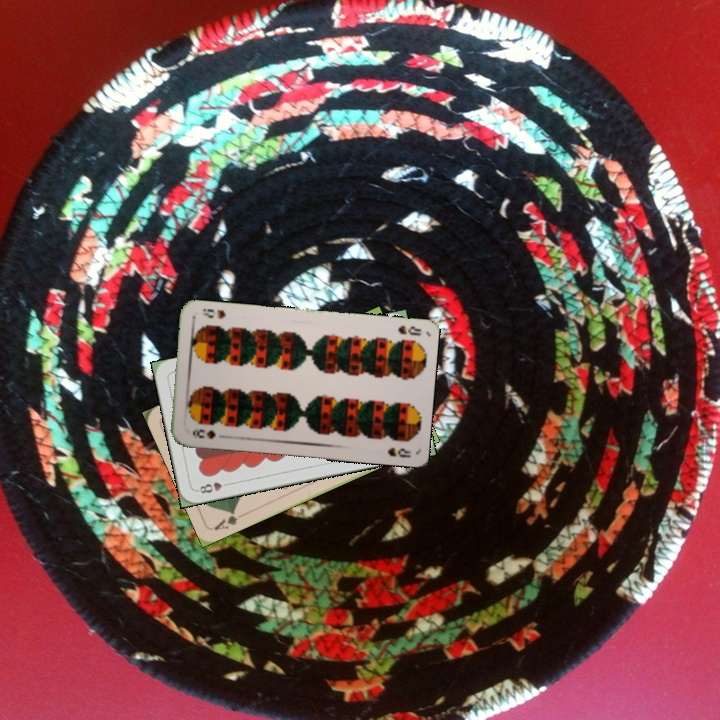GA: (210, 507, 248, 533)
H8: (193, 478, 233, 496)
S8: (394, 321, 423, 338), (188, 425, 218, 441)
